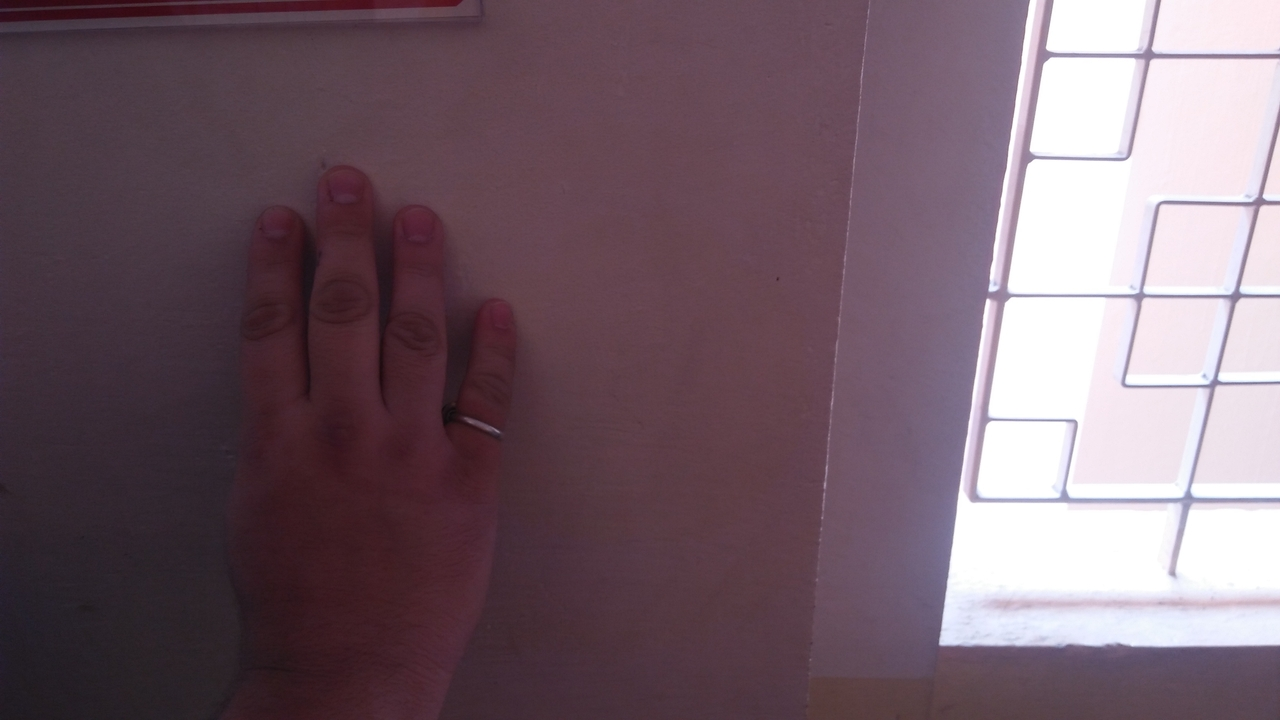fingertip: (311, 160, 374, 217), (386, 201, 450, 257), (241, 199, 304, 255), (464, 297, 522, 341)
